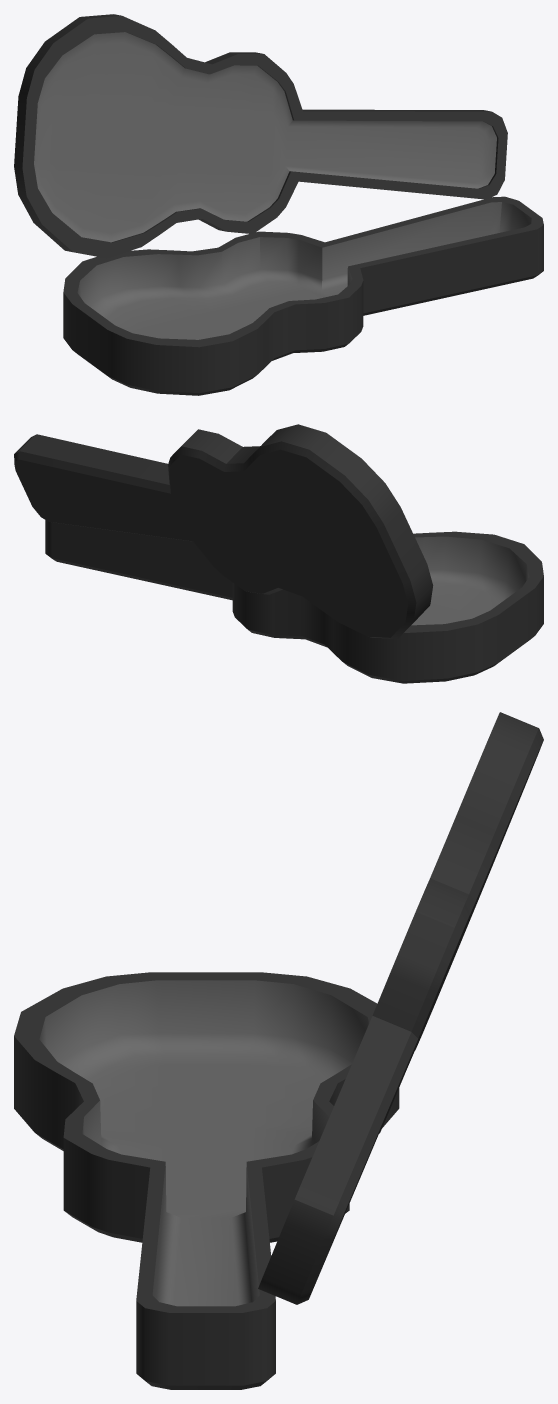
Rendered from fbx_guitarbox.fbx.
3 views of the same model, one above another, from view 1: azimuth 30°, elevation 25°; view 2: azimuth 150°, elevation 25°; view 3: azimuth 270°, elevation 25° (orthographic). The views are drawn at different scales.
Parts seen in each view (by area): view 1: fbx_guitarbox; view 2: fbx_guitarbox; view 3: fbx_guitarbox.
Part boxes in pixels (bbox=[...]): fbx_guitarbox: bbox=[14, 14, 543, 395]; fbx_guitarbox: bbox=[14, 424, 543, 683]; fbx_guitarbox: bbox=[14, 712, 543, 1389].
Size of the model in its own units: 2.46 by 1.36 by 1.59.
Materials: 1 (1 with a texture image).
